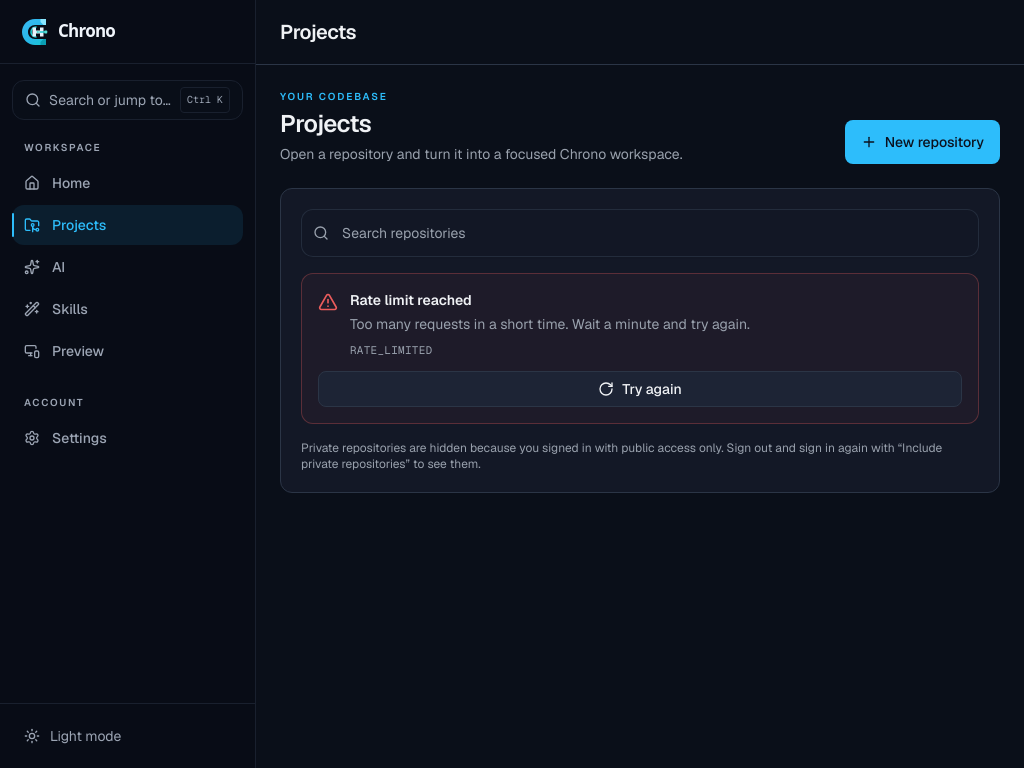
GitHub projects › shows a readable error and retries
expect the text "Rate limit reached" is shown: met, box [350,291,472,309]
Click the button "Try again": (640, 388) [318,370,962,406]
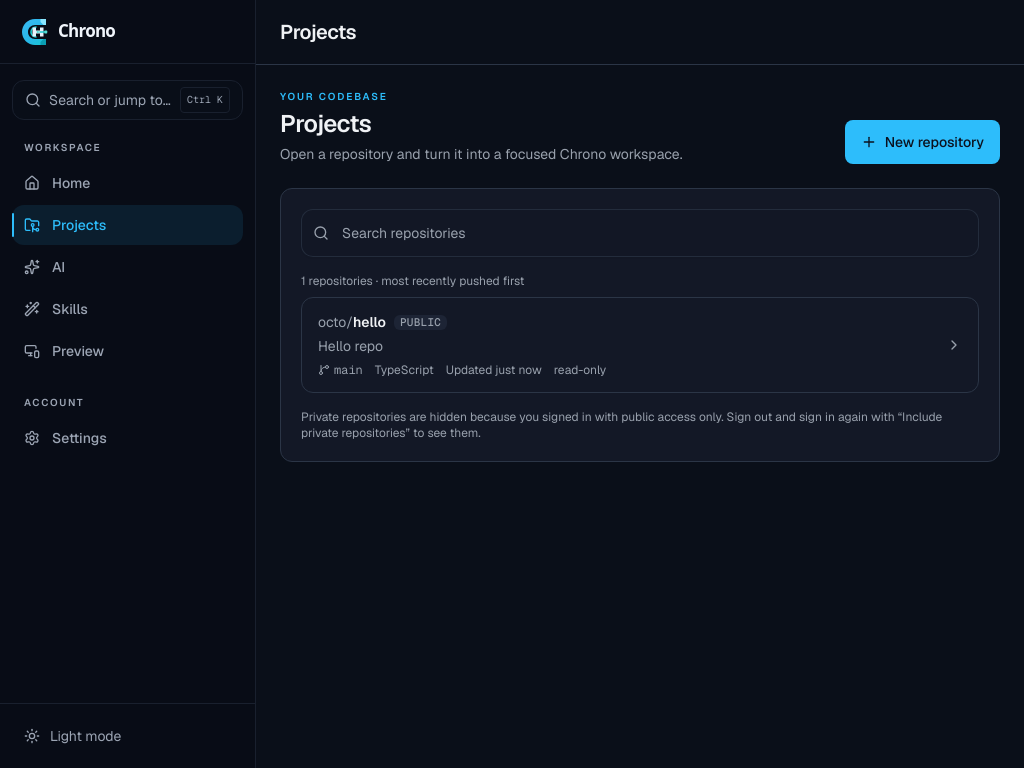
expect the link with test id "row-repo-octo/hello" is shown: met, box [302,298,978,392]
